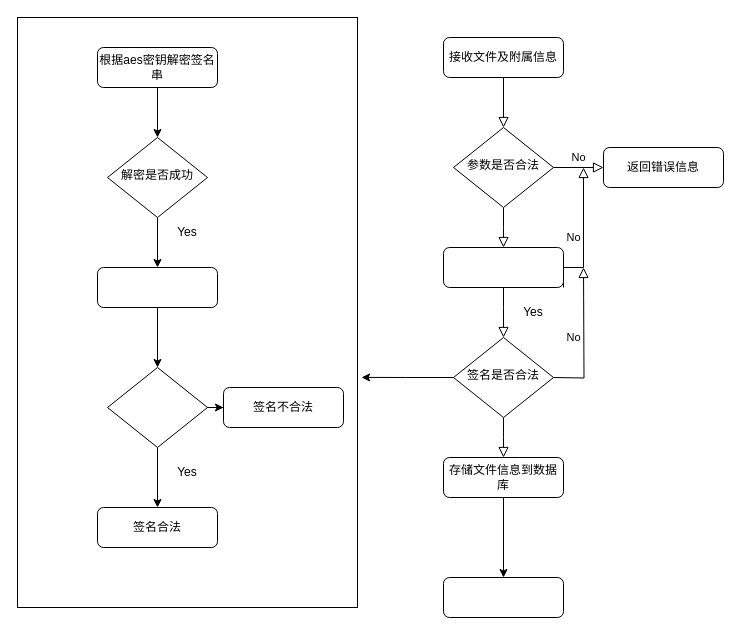
Image size: 741x635. Some labels were removed from this diagram. The centre of each missing label's shape, as x and y in pixels:
取文件md5与解密后md5比对: the point at 157,287
是否相等: the point at 157,407
校验签名: the point at 503,267
返回成功信息: the point at 503,597
